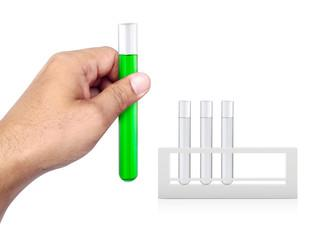Test tube: (103, 13, 144, 182), (220, 95, 240, 182), (176, 92, 193, 183)
